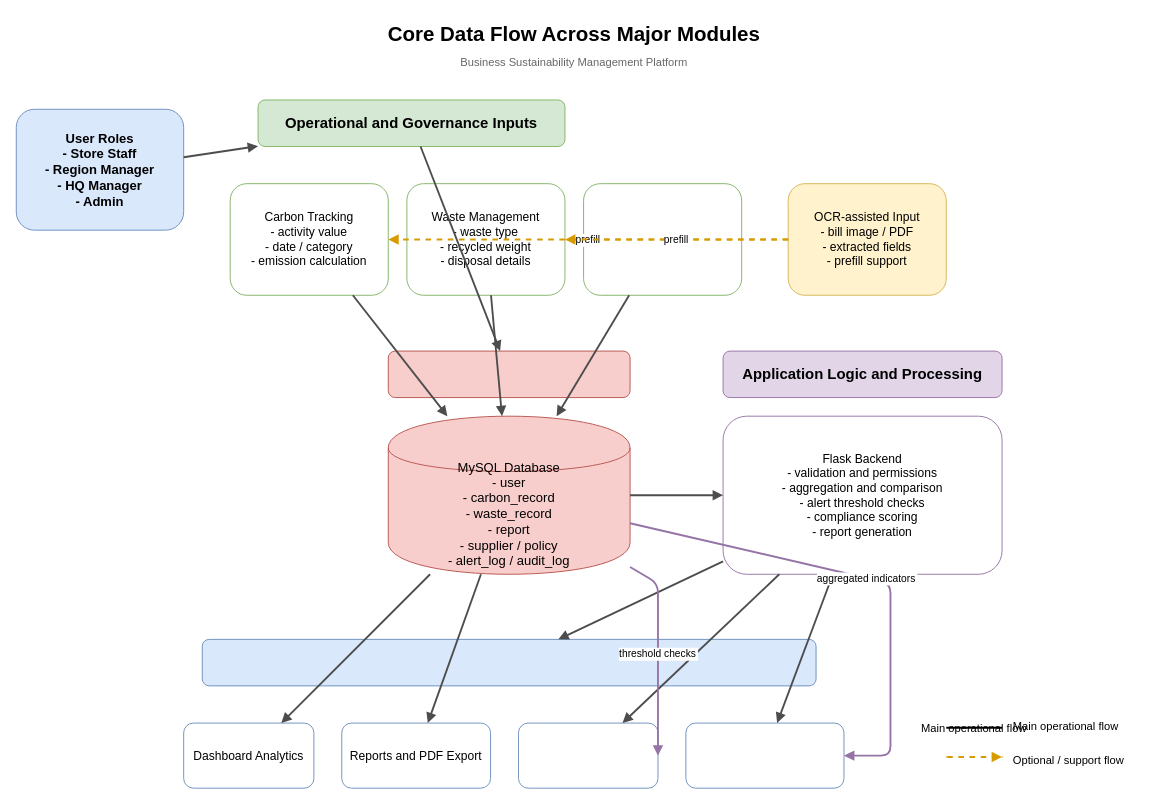
Image size: 1158x804. Some labels were removed from this diagram. The box of each missing label's shape, as (x1, y1, x2, y2) in pixels:
Alerts and Notifications: (518, 722, 658, 788)
Central Data Layer: (387, 350, 630, 398)
Compliance / Audit Review: (685, 722, 844, 788)
Training / ESG Inputs - training records - supplier scores - policy records: (583, 183, 742, 295)
User-facing Outputs and Management Use: (201, 638, 816, 686)
